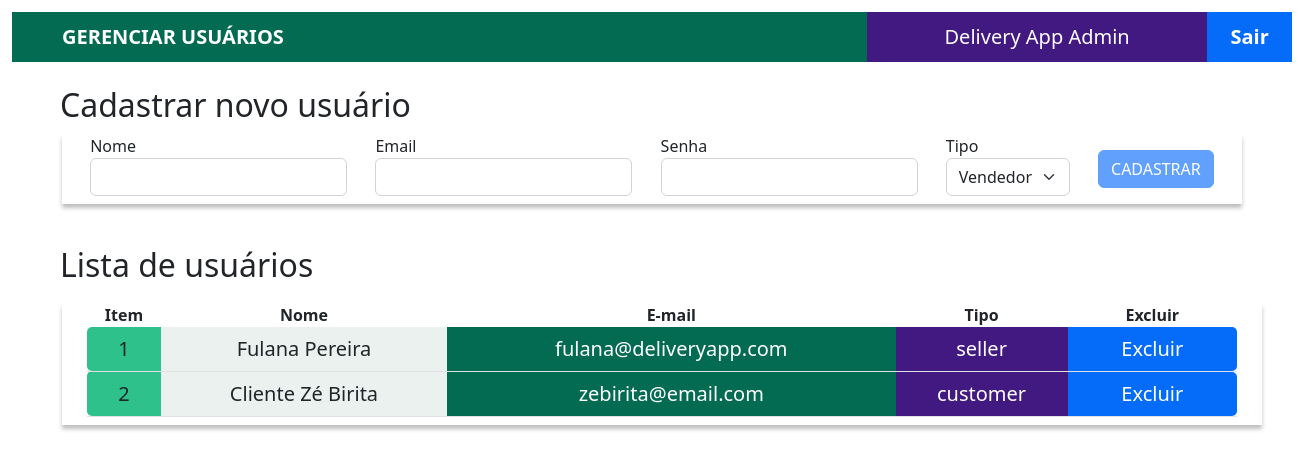
Test: testando página Admin › Testa se mostra mensagem de erro se usuário já existe
The width and height of the screenshot is (1304, 472).
Type "A Very Valid Name" into the field labelled "Nome" at coordinates (219, 177), box [90, 158, 347, 196]
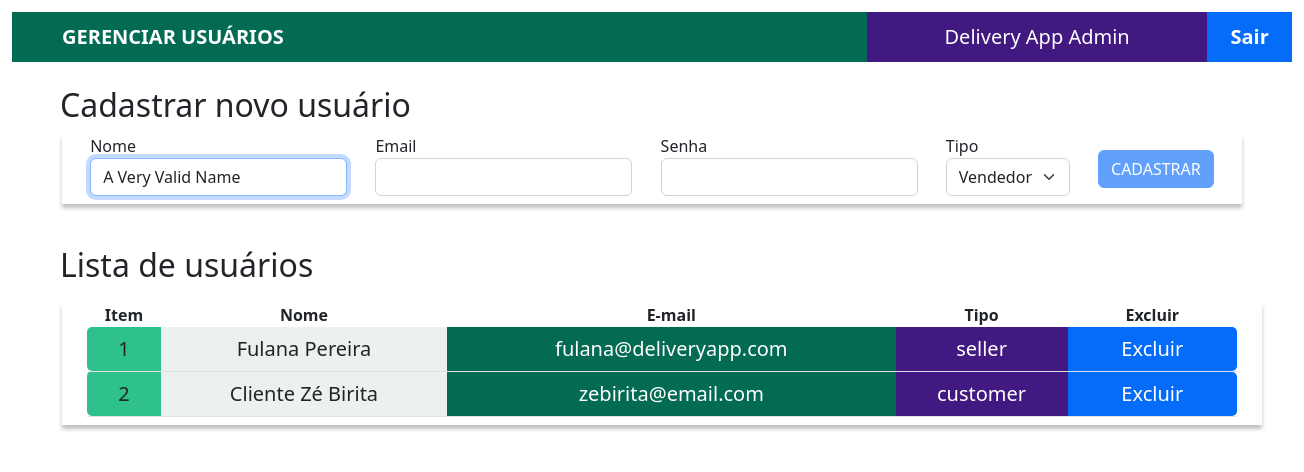
Type "valid@mail.com" into the field labelled "Email" at coordinates (504, 177), box [375, 158, 632, 196]
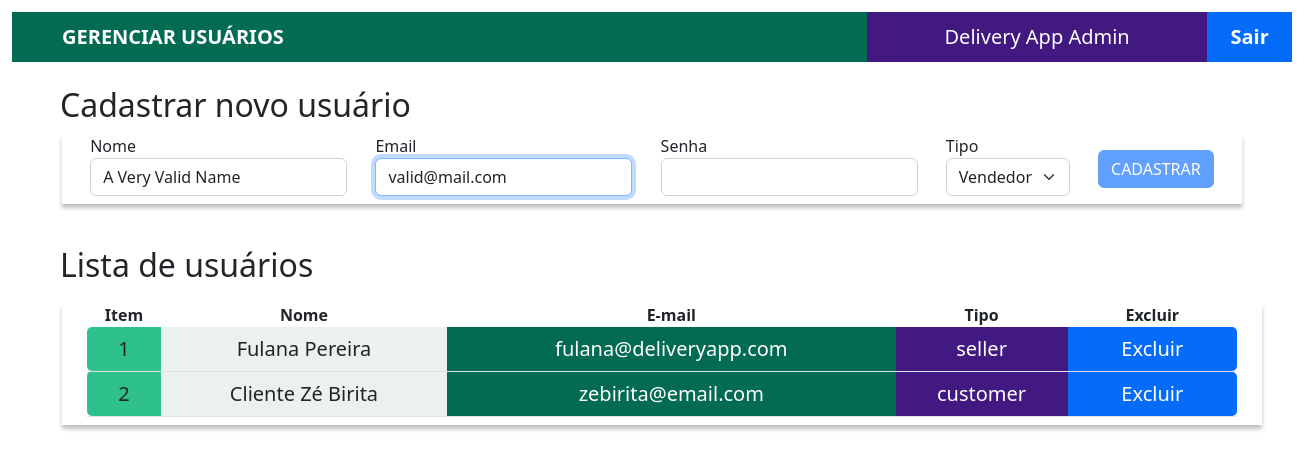
Type "validpassword" into the password field labelled "Senha" at coordinates (789, 177), box [661, 158, 918, 196]
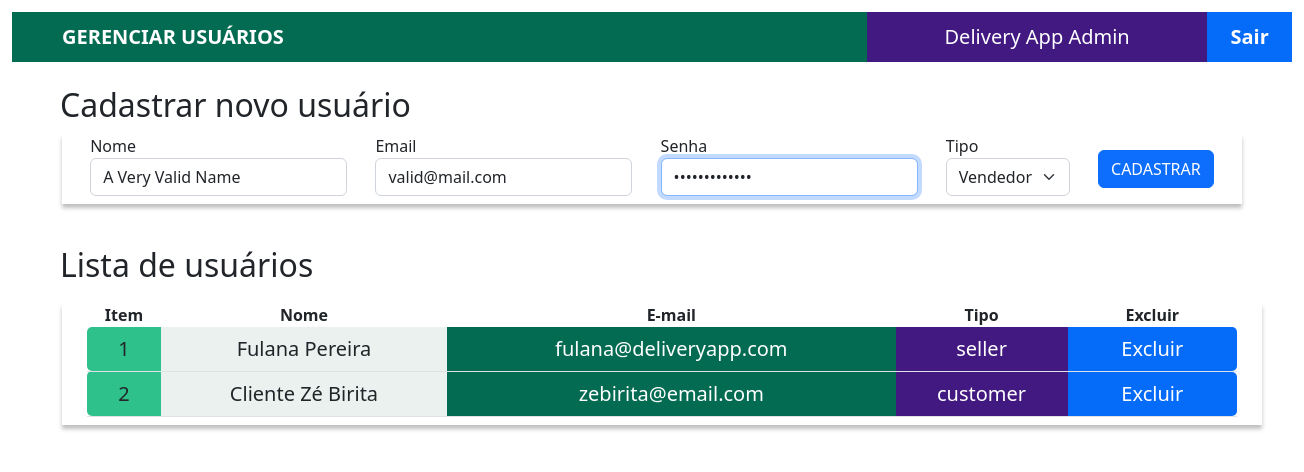
Select "Cliente" in the dropdown labelled "Tipo" at coordinates (1008, 177), box [946, 158, 1070, 196]
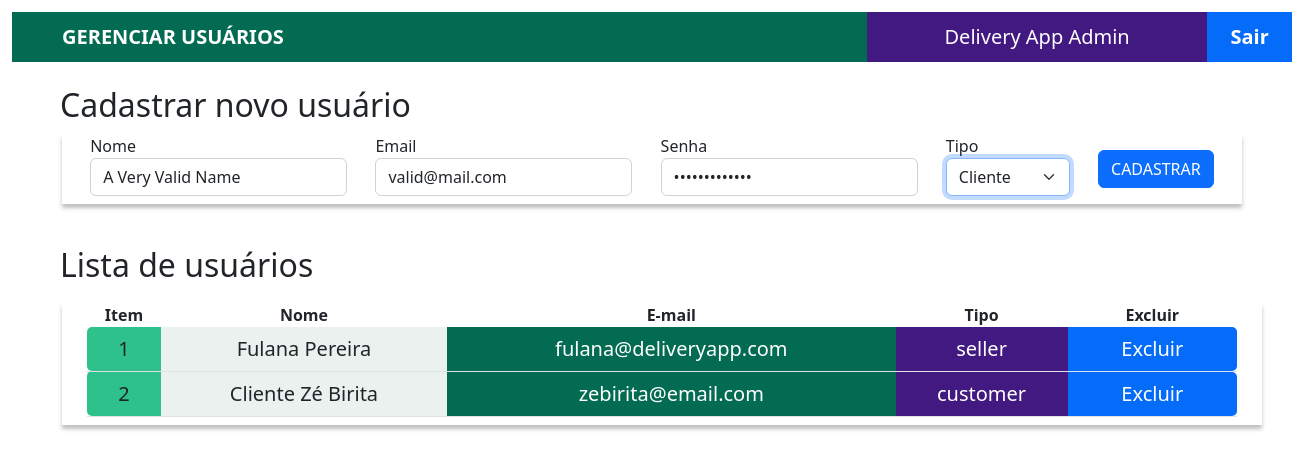
Click the button "CADASTRAR" at coordinates (1156, 169), box [1098, 150, 1214, 188]
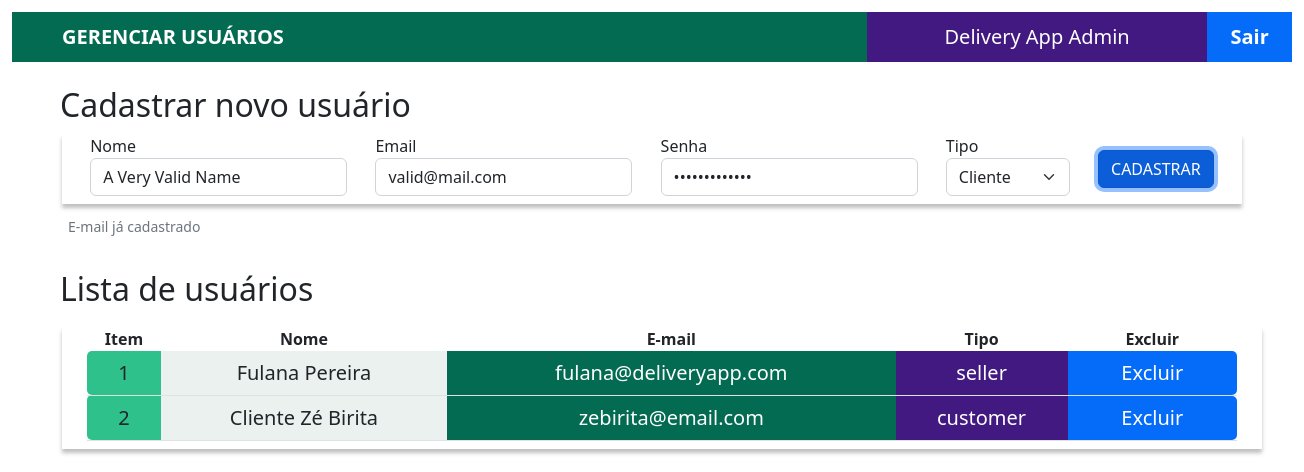
Result: the text "E-mail já cadastrado" is enabled at [68, 217, 200, 236]
